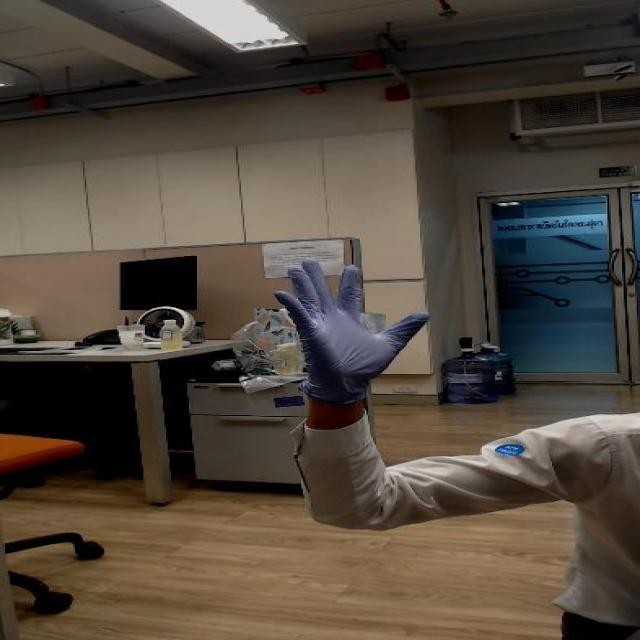Glove: (245, 244, 431, 396)
